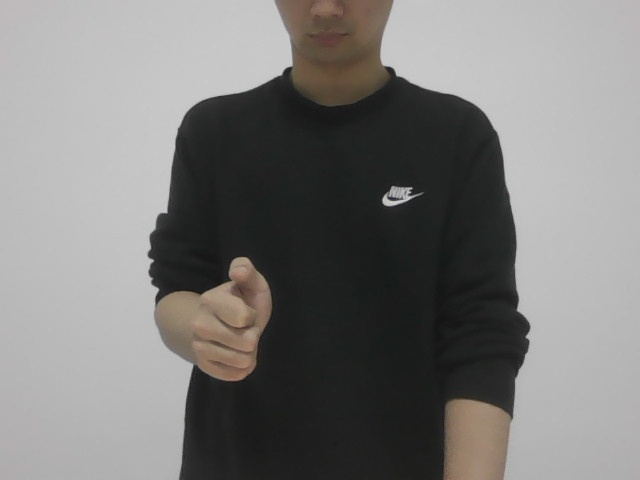thank you: (189, 251, 273, 380)
